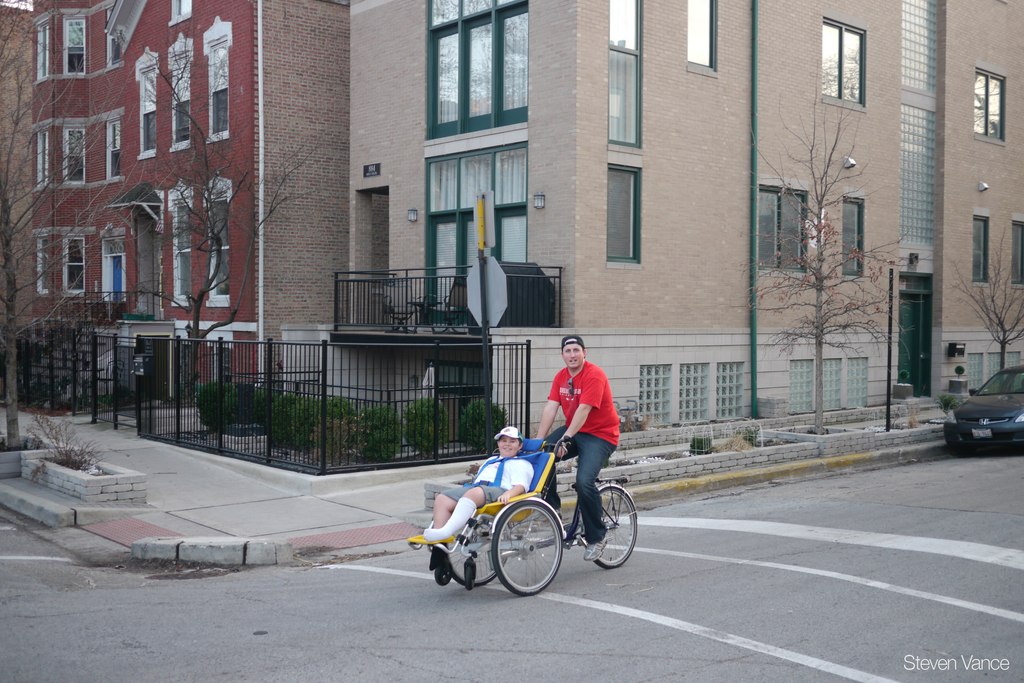Bike_toward: (405, 427, 668, 611)
